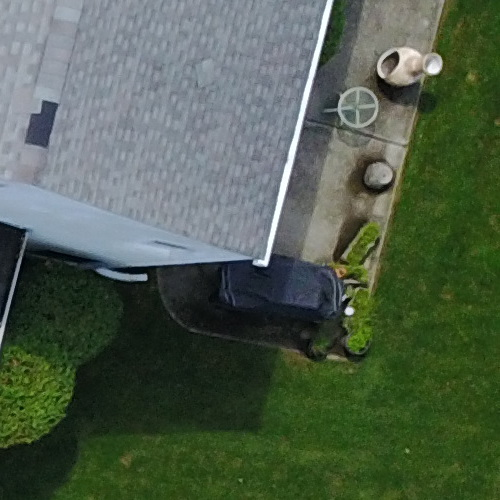gutter: (80, 253, 157, 290)
table: (317, 75, 387, 139)
